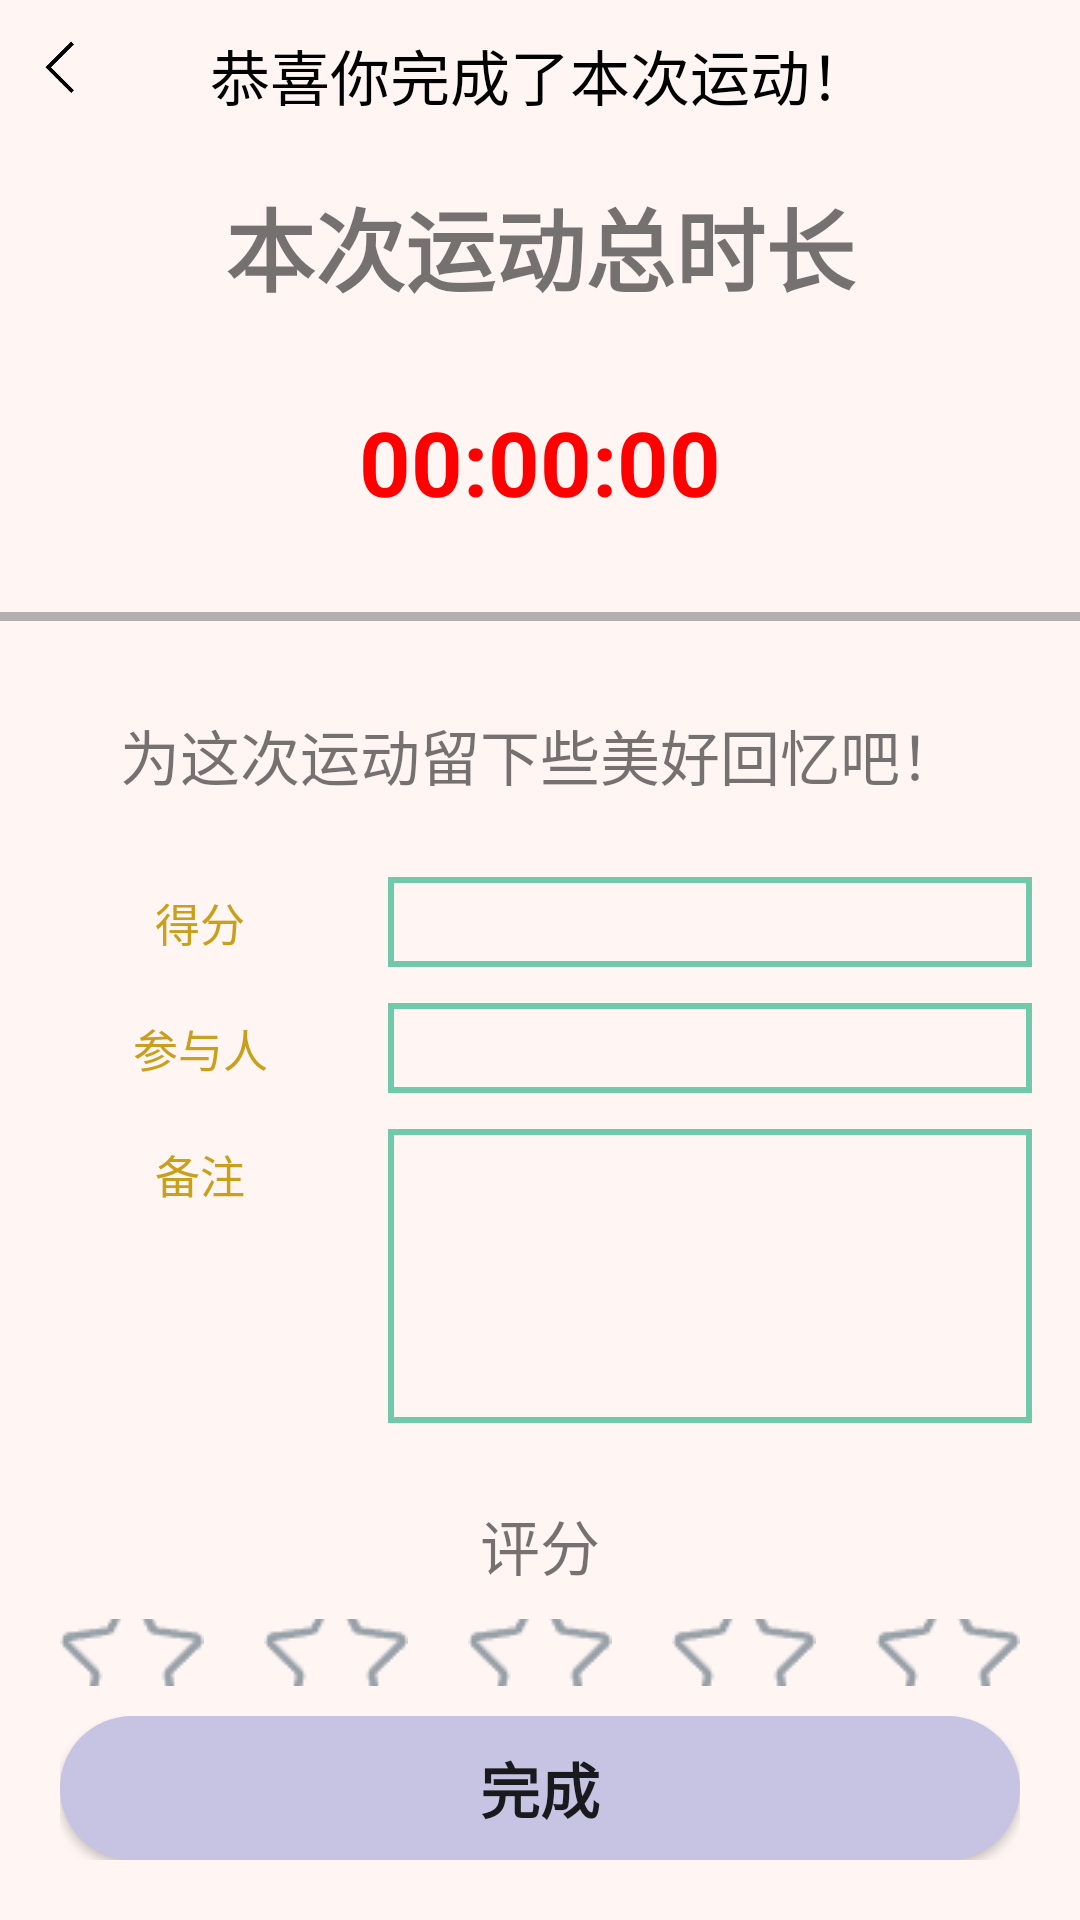

Icon bounding boxes for this 1080*1920 phone screenshot, format [x1=x1, y1=y1, x2=x2, y2=y2]:
return: [x1=45, y1=42, x2=74, y2=93]
